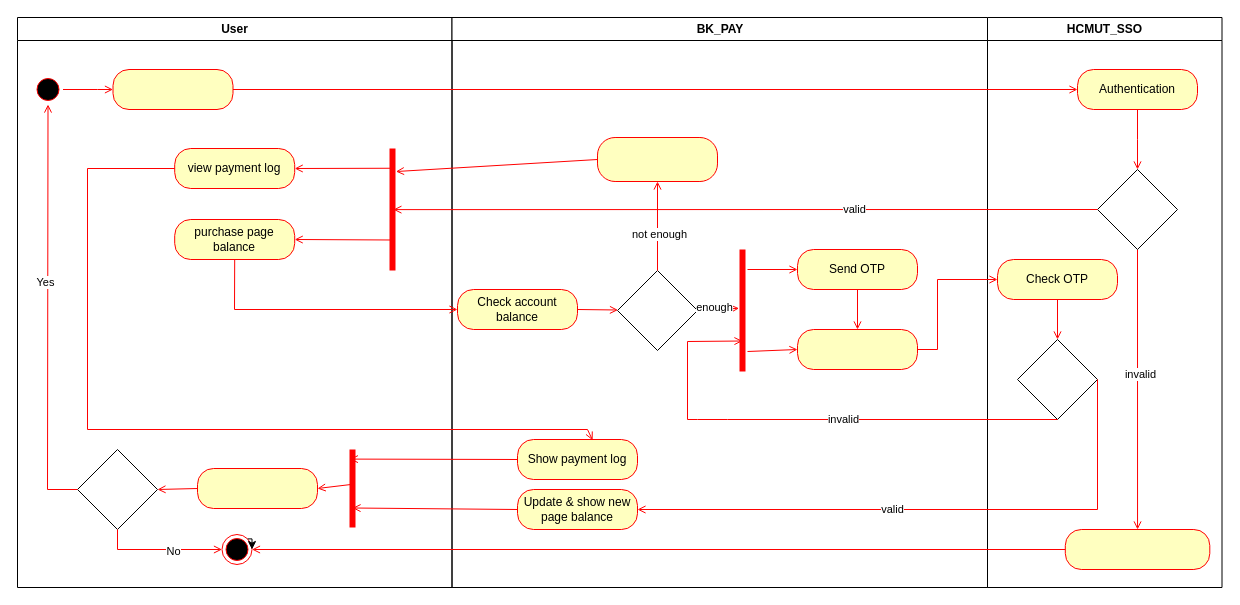
Some shapes in this 1240 by 605 pixel diagram are drawn without their labels. Here are the shapes that lost their labels. From the top down, the centre of each, then its label:
At point (172, 89): "Log in".
At point (657, 159): "insufficient account balance".
At point (857, 349): "Enter OTP".
At point (257, 488): "User continue using these services".
At point (1137, 549): "invalid sign-in warning pop-up".
